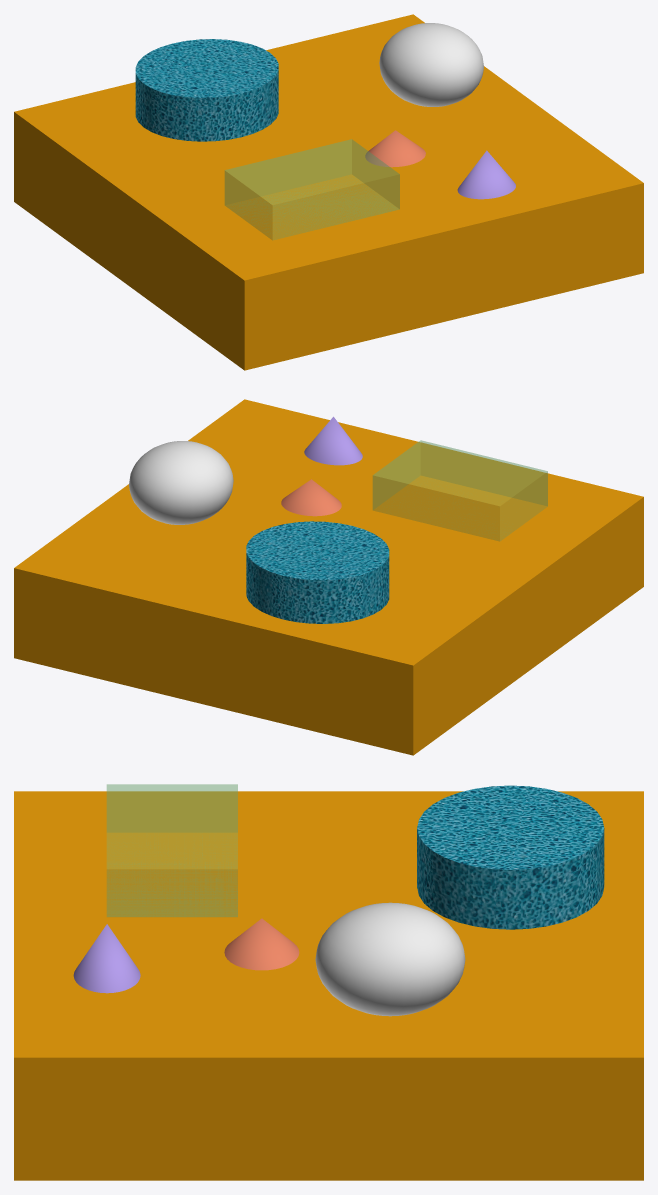
The picture shows the model from 3 angles, top to bottom: view 1: azimuth 30°, elevation 25°; view 2: azimuth 150°, elevation 25°; view 3: azimuth 270°, elevation 25°; orthographic projection. The views are drawn at different scales.
Visible parts, largest first — view 1: Plane, Cylinder, Cube, Sphere, Cone, Cone2; view 2: Plane, Cylinder, Cube, Sphere, Cone, Cone2; view 3: Plane, Cylinder, Cube, Sphere, Cone, Cone2.
Part boxes in pixels (box(x1,y1,x2,y2)): Plane: box(14, 14, 643, 370); Cylinder: box(135, 39, 278, 141); Cube: box(224, 139, 399, 240); Sphere: box(379, 23, 483, 106); Cone: box(457, 150, 515, 199); Cone2: box(365, 130, 425, 167); Plane: box(14, 399, 643, 755); Cylinder: box(246, 521, 389, 623); Cube: box(372, 440, 547, 541); Sphere: box(129, 441, 233, 524); Cone: box(304, 416, 362, 465); Cone2: box(281, 479, 341, 516); Plane: box(14, 791, 643, 1180); Cylinder: box(417, 785, 604, 929); Cube: box(106, 784, 237, 916); Sphere: box(315, 902, 465, 1016); Cone: box(73, 924, 140, 993); Cone2: box(224, 918, 299, 970).
Bounding box in the file's own units: 0.2 × 0.077 × 0.2.
6 materials, 2 textured.
